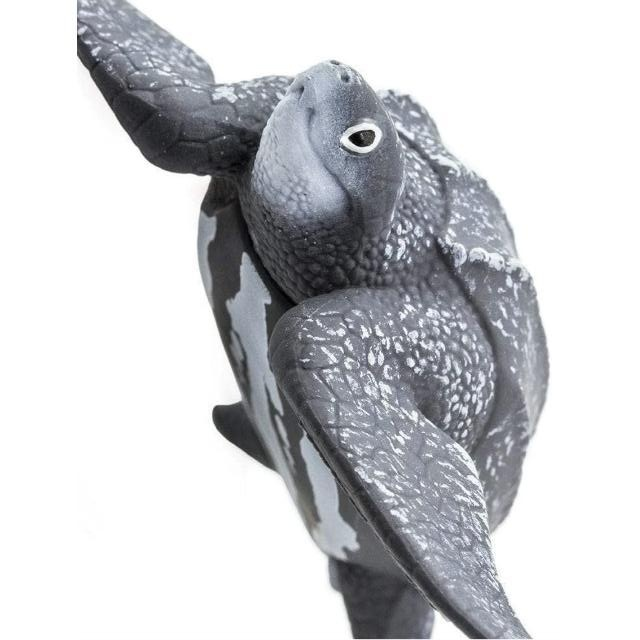turtle: (79, 0, 550, 637)
